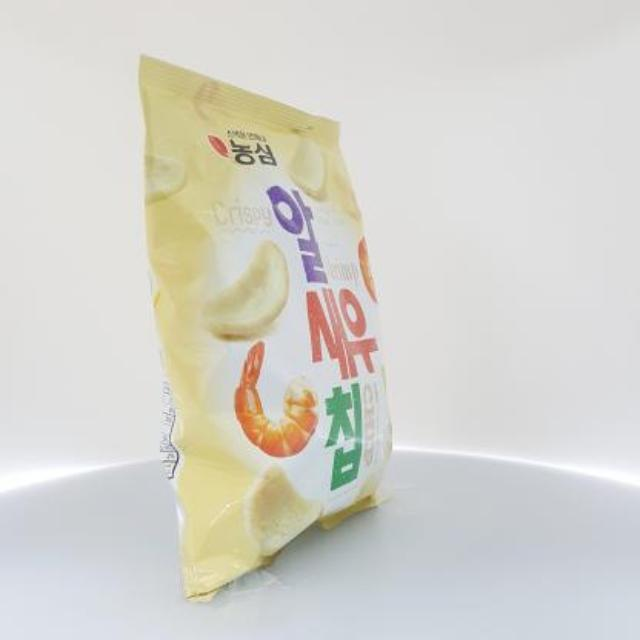snack_bag: (121, 42, 411, 608)
